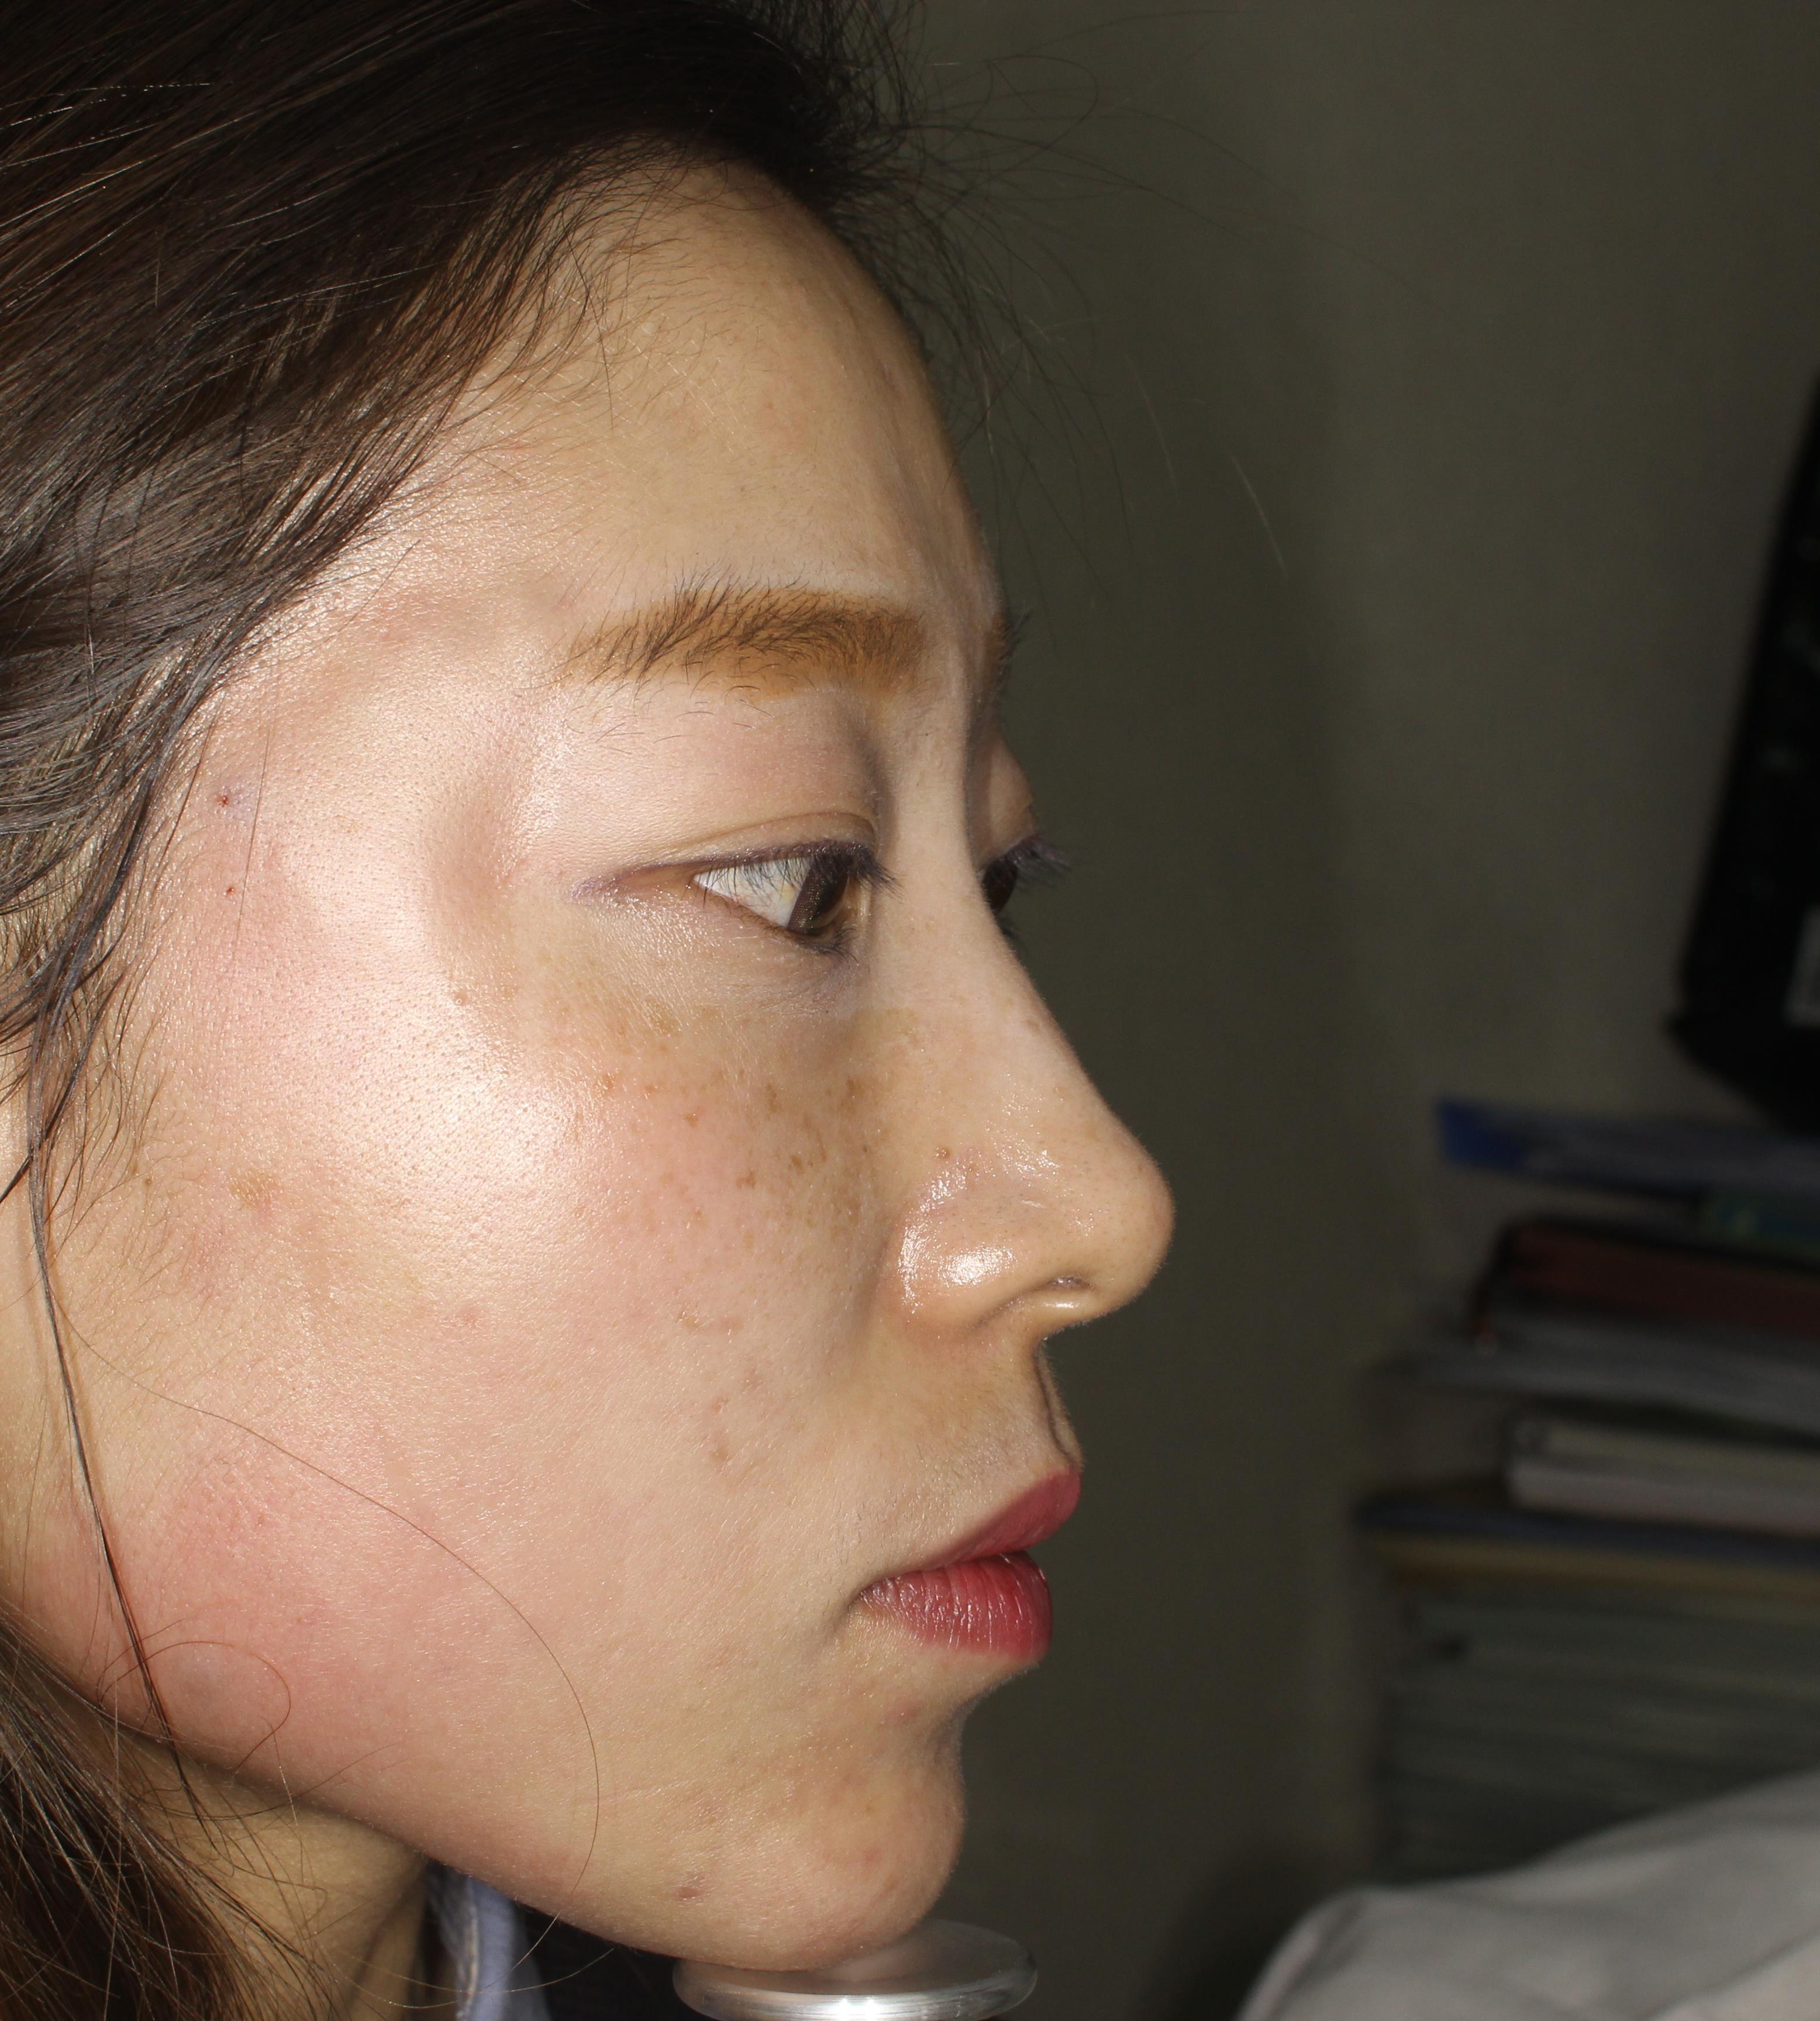fore: (661, 1854, 722, 1916)
